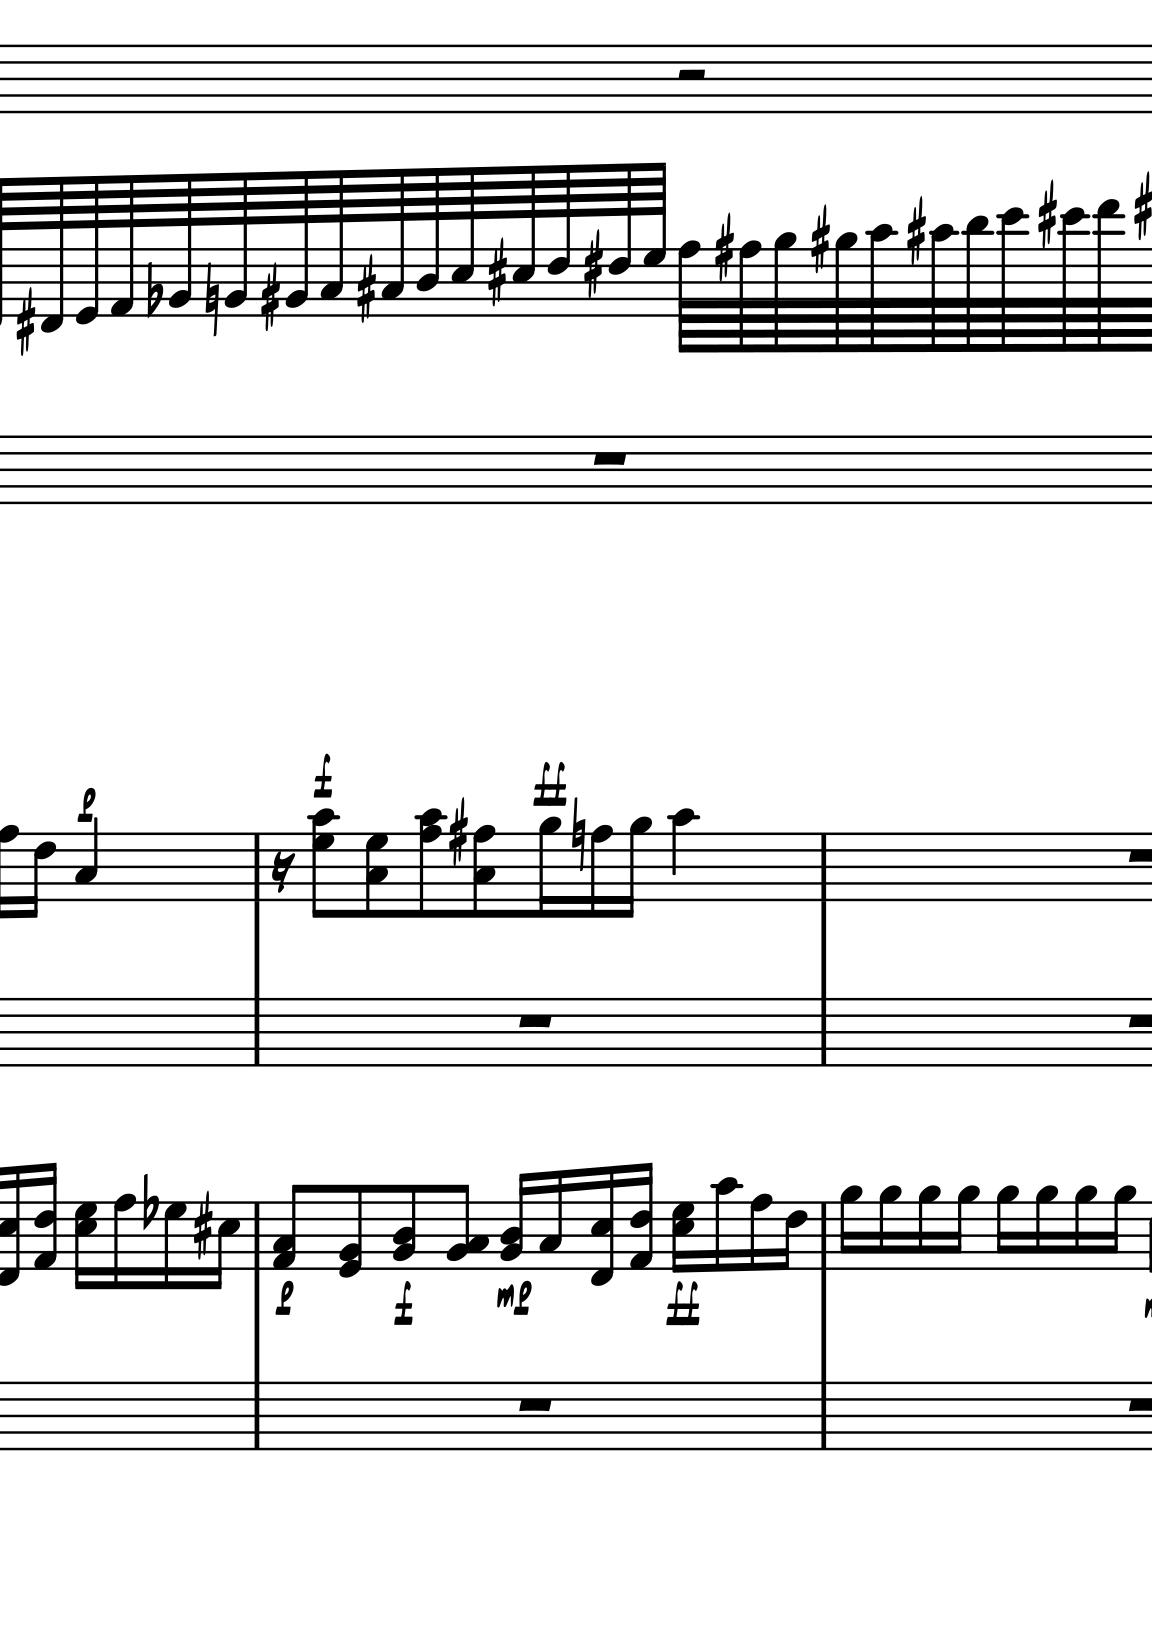16_-1_5: (590, 1165, 617, 1287)
16_10: (713, 1176, 738, 1274)
16_1_6: (32, 1161, 59, 1272), (631, 1161, 655, 1274)
16_2_4: (500, 1171, 535, 1271)
16_3: (539, 1168, 564, 1271)
16_5: (209, 1200, 239, 1291)
16_5_7: (74, 1199, 98, 1290), (670, 1199, 697, 1275)
16_6: (24, 830, 56, 921), (780, 1201, 810, 1271)
16_7: (162, 1201, 186, 1292)
16_8: (588, 824, 613, 920), (111, 1193, 133, 1291), (748, 1194, 770, 1274)
16_9: (618, 816, 653, 921), (1105, 1184, 1136, 1272), (537, 814, 562, 921), (953, 1185, 982, 1272), (878, 1185, 905, 1271), (995, 1185, 1021, 1271), (918, 1185, 943, 1271), (1035, 1185, 1060, 1271), (1073, 1185, 1098, 1271), (839, 1185, 863, 1272)
4_10: (670, 808, 699, 903)
4_3: (74, 817, 98, 902)
64_-1: (37, 174, 66, 331)
64_0: (74, 174, 101, 325)
64_1: (108, 174, 136, 319)
64_10: (865, 224, 898, 354), (926, 224, 959, 354)
64_11: (961, 216, 994, 354)
64_12: (995, 206, 1031, 354), (1056, 206, 1092, 354)
64_13: (1092, 198, 1126, 353)
64_2: (223, 171, 251, 318), (167, 173, 193, 319), (286, 169, 310, 318)
64_3: (319, 169, 347, 318), (380, 168, 406, 317)
64_4: (415, 166, 443, 318)
64_5: (510, 164, 534, 320), (449, 166, 473, 318)
64_6: (607, 163, 633, 319), (547, 164, 571, 319)
64_7: (643, 162, 667, 318)
64_8: (677, 239, 701, 356), (739, 239, 763, 356)
64_9: (773, 232, 797, 354), (833, 232, 857, 354)
8_0_2: (339, 1184, 365, 1279)
8_1_3: (272, 1183, 304, 1274)
8_2_3: (446, 1185, 487, 1270)
8_2_4: (391, 1184, 419, 1269)
8_3_7: (364, 831, 389, 918)
8_3_8: (473, 824, 497, 920)
8_7_10: (305, 808, 342, 918)
8_8_10: (414, 808, 446, 920)
Flat: (138, 1171, 158, 1232), (145, 262, 162, 319)
Natural: (569, 795, 586, 872), (204, 263, 219, 338)
Rests1: (588, 447, 630, 470), (514, 1009, 555, 1031), (514, 1394, 555, 1414), (674, 65, 709, 83), (1125, 1009, 1152, 1031), (1125, 844, 1152, 864), (1125, 1393, 1152, 1413)
Rests16: (271, 850, 295, 896)
Sharp: (807, 203, 830, 274), (446, 796, 469, 869), (904, 194, 926, 265), (12, 288, 35, 356), (191, 1191, 213, 1260), (713, 212, 734, 283), (355, 255, 377, 325), (582, 233, 603, 302), (1037, 178, 1057, 250), (486, 239, 507, 307), (1132, 171, 1152, 241), (259, 264, 279, 331)
Single_barline: (812, 832, 835, 901), (813, 1382, 835, 1451), (246, 834, 268, 901), (244, 998, 267, 1065), (812, 998, 834, 1065), (246, 1382, 267, 1451), (246, 1201, 266, 1270), (814, 1203, 833, 1269)
f: (309, 753, 334, 800), (391, 1281, 415, 1328)
ff: (531, 758, 566, 808), (665, 1279, 699, 1328)
mp: (492, 1281, 535, 1316)
p: (274, 1280, 295, 1318), (75, 788, 96, 821)
